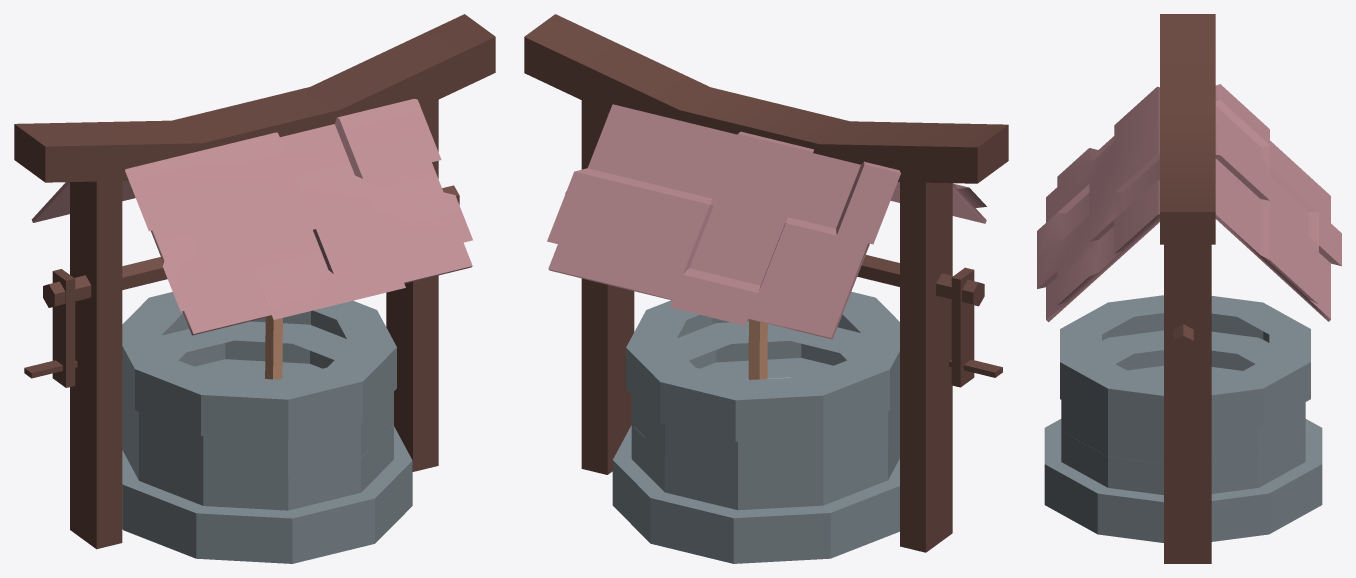
File: water_well.fbx
3 renders of one model, left to right at view 1: azimuth 30°, elevation 25°; view 2: azimuth 150°, elevation 25°; view 3: azimuth 270°, elevation 25°, orthographic. The views are drawn at different scales.
Parts seen in each view (by area): view 1: pCube61, pCube57, pCylinder6, pCube55, pCylinder3, pCylinder7, pCylinder4, pCube56, pCylinder8, pCube58, pCube60; view 2: pCube60, pCube57, pCylinder6, pCube55, pCylinder3, pCylinder7, pCylinder4, pCube56, pCylinder8, pCube58, pCube61; view 3: pCylinder6, pCube61, pCube60, pCube56, pCylinder3, pCube57, pCylinder7, pCylinder4, pCylinder8.
Part boxes in pixels (x1,y1,x2,y2): pCube61: [125, 98, 472, 335]; pCube57: [14, 14, 495, 182]; pCylinder6: [122, 292, 396, 440]; pCube55: [70, 181, 122, 549]; pCylinder3: [122, 426, 412, 563]; pCylinder7: [122, 321, 393, 476]; pCylinder4: [122, 359, 393, 510]; pCube56: [386, 100, 438, 471]; pCylinder8: [43, 185, 459, 379]; pCube58: [52, 269, 75, 387]; pCube60: [31, 181, 135, 222]; pCube60: [547, 104, 900, 339]; pCube57: [524, 14, 1008, 183]; pCylinder6: [626, 291, 899, 441]; pCube55: [900, 182, 952, 552]; pCylinder3: [612, 425, 899, 563]; pCylinder7: [631, 321, 899, 476]; pCylinder4: [631, 358, 899, 510]; pCube56: [581, 100, 634, 474]; pCylinder8: [565, 191, 984, 379]; pCube58: [951, 267, 974, 387]; pCube61: [890, 182, 986, 223]; pCylinder6: [1060, 295, 1310, 432]; pCube61: [1037, 86, 1159, 322]; pCube60: [1215, 84, 1341, 321]; pCube56: [1164, 244, 1211, 563]; pCylinder3: [1044, 419, 1322, 542]; pCube57: [1160, 14, 1215, 244]; pCylinder7: [1061, 330, 1305, 463]; pCylinder4: [1061, 365, 1305, 494]; pCylinder8: [1173, 324, 1193, 356].
Bounding box in the file's own units: 10.93 × 9.59 × 7.05.
